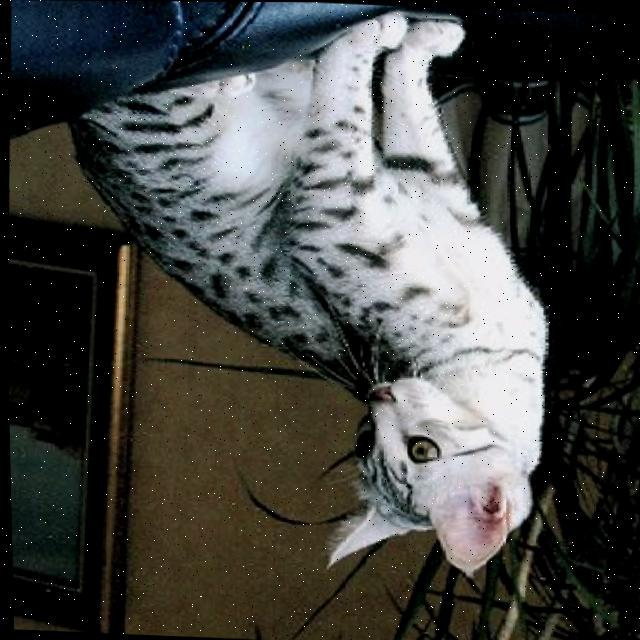Egyptian Mau: (43, 0, 567, 582)
